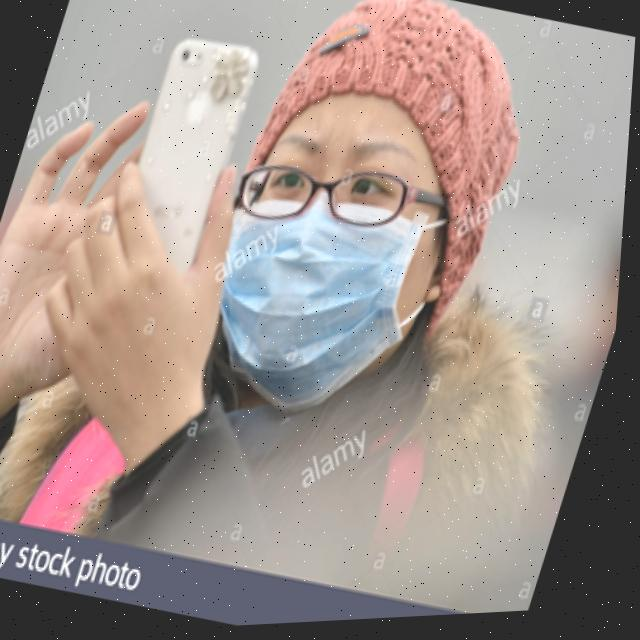Mask: (177, 159, 478, 443)
